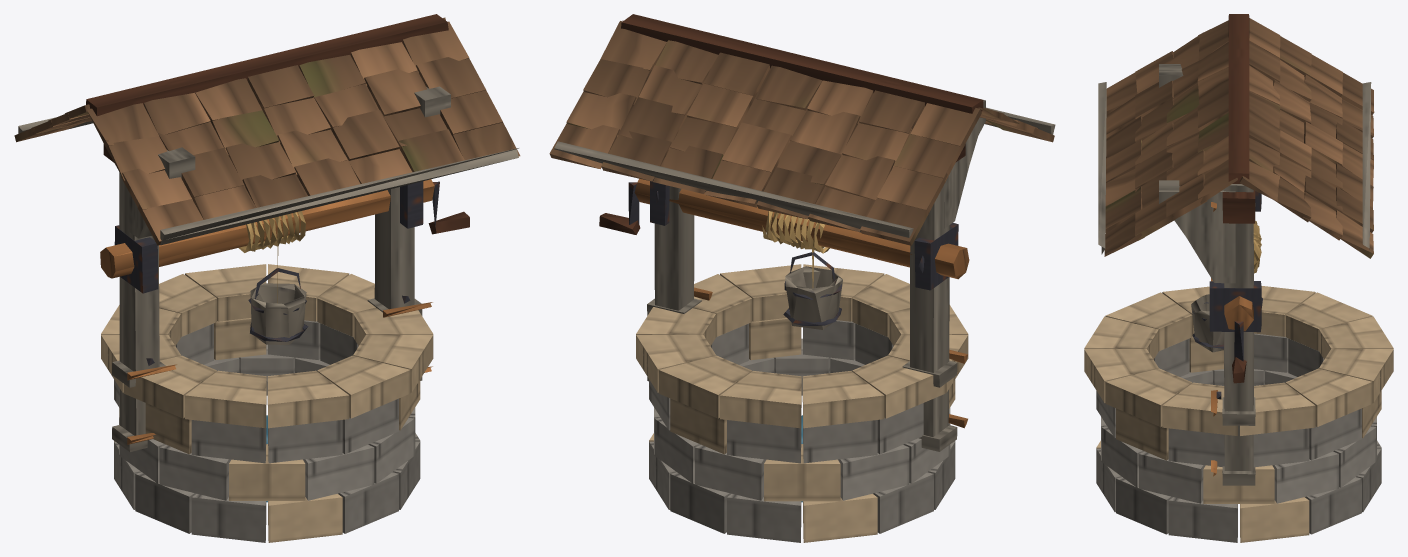
File: SM_Well_LOD2.gltf
3 renders of one model, left to right at view 1: azimuth 30°, elevation 25°; view 2: azimuth 150°, elevation 25°; view 3: azimuth 270°, elevation 25°, orthographic. The views are drawn at different scales.
Parts seen in each view (by area): view 1: SM_Well_LOD2; view 2: SM_Well_LOD2; view 3: SM_Well_LOD2.
Part boxes in pixels (bbox=[...]): SM_Well_LOD2: bbox=[14, 14, 520, 542]; SM_Well_LOD2: bbox=[549, 14, 1055, 542]; SM_Well_LOD2: bbox=[1084, 14, 1393, 542].
Bounding box in the file's own units: 2.36 × 2.47 × 1.78.
Materials: 1 (1 with a texture image).
